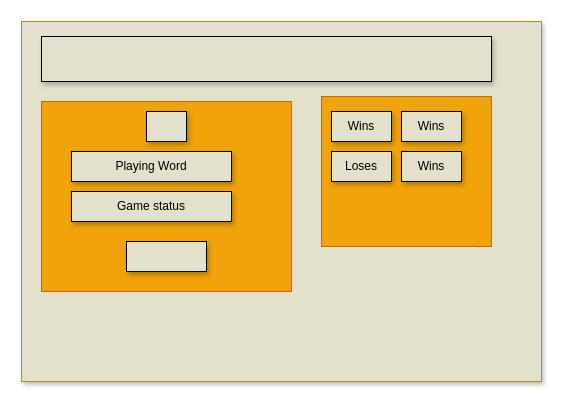
This 565x406 diagram has some shape labels left out. The centre of each missing label's shape, as x and y in pixels:
"Start" goes at (167,257).
"Time left" goes at (167,127).
"WORD GUSS GAME" goes at (267,60).
